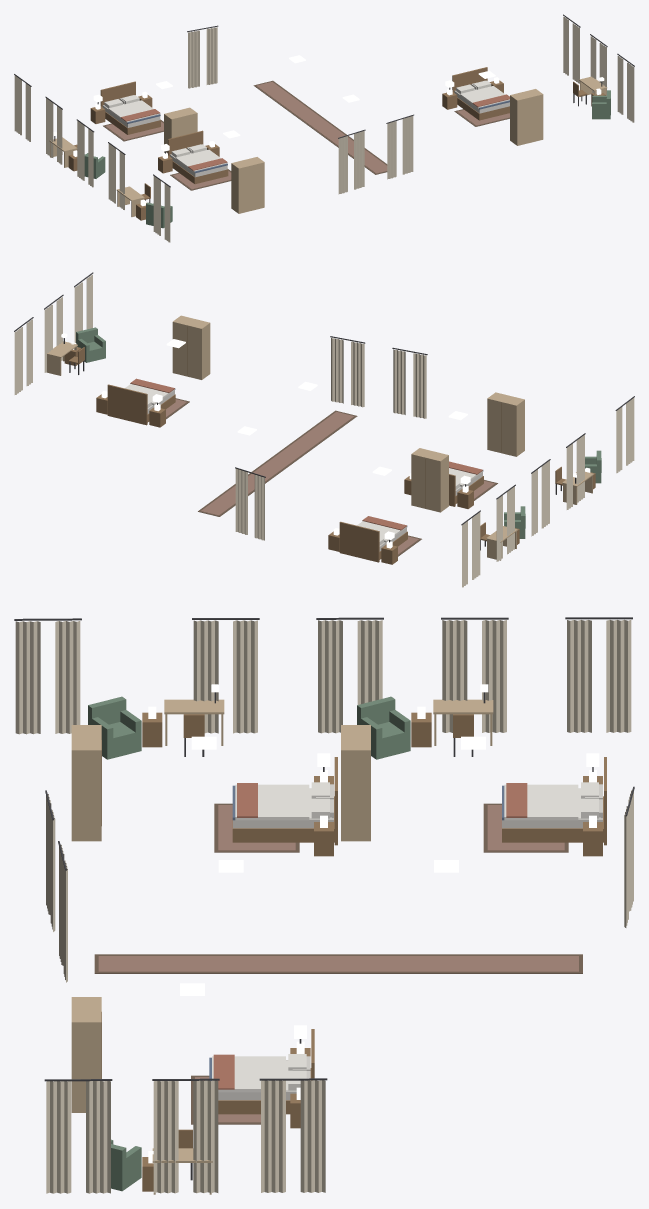
The model's file is fine-s1.glb.
3 views of the same model, one above another, from view 1: azimuth 30°, elevation 25°; view 2: azimuth 150°, elevation 25°; view 3: azimuth 270°, elevation 25° (orthographic). The views are drawn at different scales.
Visible parts, largest first — view 1: soft-s1, dresser.000, dresser.002, bed-frame.002, bed-frame.001, bed-frame.000, dresser.001, lounge-chair.000, writing-desk.002, writing-desk.000, writing-desk.001, lounge-chair.001; view 2: soft-s1, dresser.001, dresser.002, dresser.000, bed-frame.001, bed-frame.000, lounge-chair.000, writing-desk.000, bed-frame.002; view 3: soft-s1, dresser.002, dresser.001, dresser.000, bed-frame.002, bed-frame.001, lounge-chair.002, lounge-chair.001, bed-frame.000, lounge-chair.000, writing-desk.001, writing-desk.002 (+2 smaller).
Boxes of the visible parts, box(x1,y1,x2,y2) form: soft-s1: box(14, 14, 634, 242); dresser.000: box(510, 89, 543, 145); dresser.002: box(231, 157, 264, 213); bed-frame.002: box(168, 130, 228, 184); bed-frame.001: box(100, 81, 160, 134); bed-frame.000: box(452, 67, 509, 120); dresser.001: box(164, 107, 197, 153); lounge-chair.000: box(592, 90, 610, 119); writing-desk.002: box(116, 182, 144, 216); writing-desk.000: box(579, 76, 607, 96); writing-desk.001: box(49, 131, 77, 167); lounge-chair.001: box(84, 153, 105, 178); soft-s1: box(14, 272, 634, 587); dresser.001: box(411, 448, 448, 512); dresser.002: box(487, 392, 524, 456); dresser.000: box(172, 315, 210, 379); bed-frame.001: box(339, 521, 407, 562); bed-frame.000: box(107, 384, 175, 425); lounge-chair.000: box(76, 327, 105, 362); writing-desk.000: box(47, 333, 77, 375); bed-frame.002: box(449, 470, 483, 506); soft-s1: box(14, 617, 634, 1193); dresser.002: box(71, 725, 101, 841); dresser.001: box(341, 725, 370, 841); dresser.000: box(71, 997, 101, 1112); bed-frame.002: box(232, 757, 337, 845); bed-frame.001: box(502, 757, 606, 845); lounge-chair.002: box(88, 696, 141, 759); lounge-chair.001: box(357, 696, 410, 759); bed-frame.000: box(209, 1029, 314, 1114); lounge-chair.000: box(111, 1139, 141, 1191); writing-desk.001: box(433, 684, 493, 745); writing-desk.002: box(164, 684, 224, 745).
Size of the model in its own units: 21.86 by 2.56 by 12.39.
